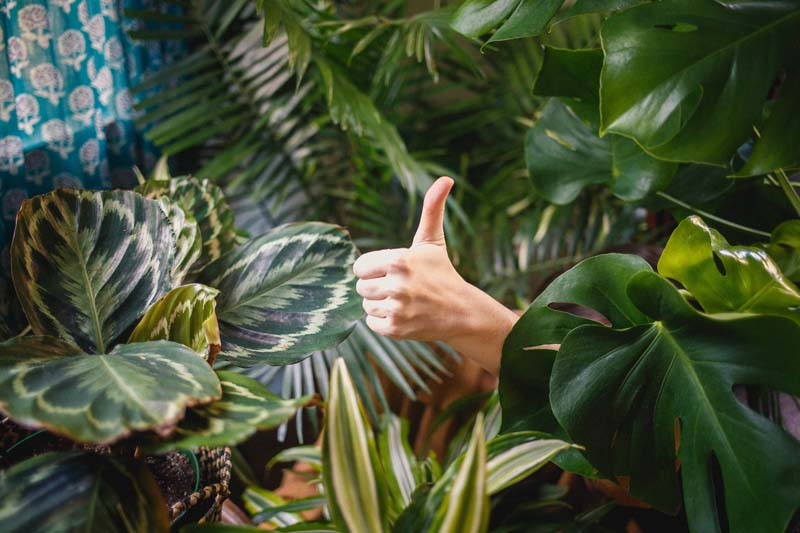Thumbs Up: (347, 166, 484, 368)
